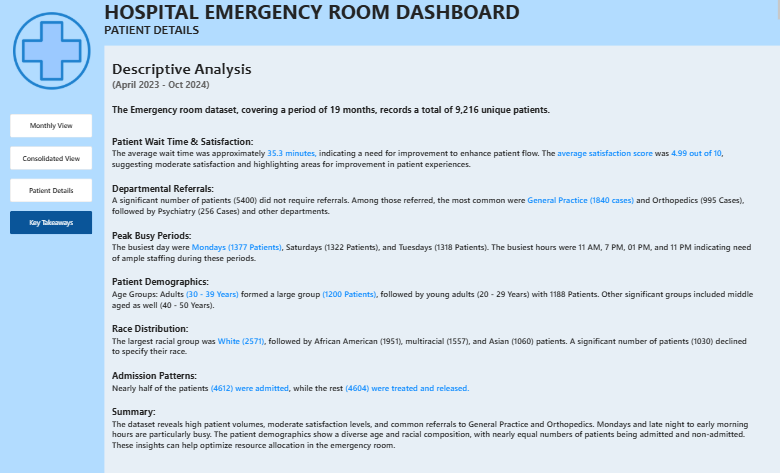

The dashboard page shown, as its layout file describes it:
{"tool":"powerbi","page":{"name":"Key Takeaways","canvas":[2300,1400],"ordinal":3},"visuals":[{"type":"shape","box":[0,0,310,1400],"z":0},{"type":"shape","box":[310,0,1990,140],"z":1000},{"type":"textbox","box":[310,0,1990,70],"z":2000},{"type":"textbox","box":[310,70,357.5,57.5],"z":3000},{"type":"image","box":[40,20,227.5,270],"z":4000},{"type":"textbox","box":[332.5,175,1892.5,1225],"z":5000},{"type":"pageNavigator","box":[32.5,342.5,242.5,357.5],"z":6000}]}

Visuals, with their boxes in screenshot pixels (x1, y1, x2, y2), scaled from the page's 2300x1400 canvas onto the 780x473 screenshot:
shape: x1=0 y1=0 x2=105 y2=472
shape: x1=105 y1=0 x2=779 y2=47
textbox: x1=105 y1=0 x2=779 y2=24
textbox: x1=105 y1=24 x2=226 y2=43
image: x1=14 y1=7 x2=91 y2=98
textbox: x1=113 y1=59 x2=755 y2=472
pageNavigator: x1=11 y1=116 x2=93 y2=236
